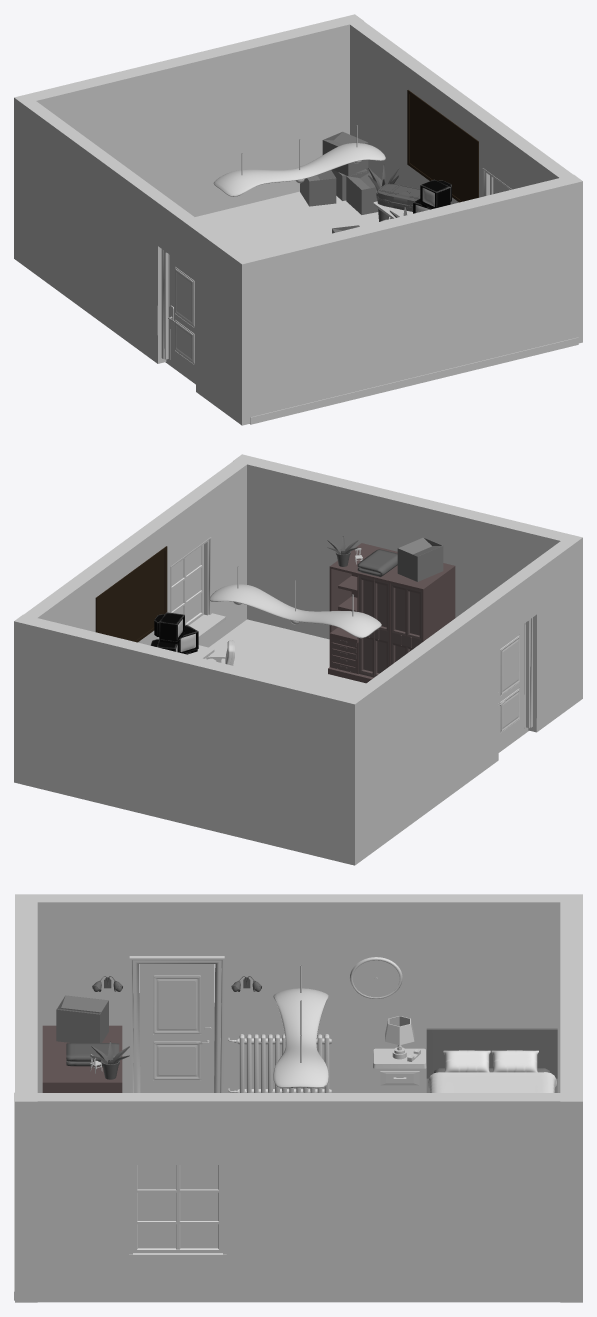
Rendered from Room 15 Added too.fbx.
3 views of the same model, one above another, from view 1: azimuth 30°, elevation 25°; view 2: azimuth 150°, elevation 25°; view 3: azimuth 270°, elevation 25° (orthographic). The views are drawn at different scales.
Visible parts, largest first — view 1: Box010, Box011, Box012, Box006, Box001, Plane.001, Plane, Plane001, Door001, pCube004, pCube013, Door Frame001 (+3 smaller); view 2: Box012, Box011, Box010, Box006, Box001, Wardrobe002, Plane.001, Plane, Door001, pCube008, Glass, WDDoorsR005 (+8 smaller); view 3: Box006, Box011, Door001, Box010, Box012, Glass, Plane, Bed_Frame, Door Frame001, Wardrobe002, Cylinder001, outputCloth10 (+10 smaller).
Boxes of the visible parts, x1,y1,x2,y2 form: Box010: (233, 175, 582, 415); Box011: (14, 95, 254, 425); Box012: (19, 14, 363, 216); Box006: (341, 14, 582, 343); Box001: (165, 191, 578, 424); Plane.001: (407, 90, 478, 202); Plane: (213, 125, 385, 196); Plane001: (214, 208, 334, 254); Door001: (170, 255, 195, 378); pCube004: (346, 171, 382, 214); pCube013: (300, 166, 336, 206); Door Frame001: (161, 249, 170, 359); Box012: (14, 614, 362, 862); Box011: (342, 535, 582, 865); Box010: (233, 454, 577, 639); Box006: (14, 454, 255, 785); Box001: (205, 619, 528, 752); Wardrobe002: (328, 543, 455, 683); Plane.001: (95, 546, 167, 642); Plane: (209, 566, 381, 638); Door001: (498, 623, 524, 746); pCube008: (397, 537, 443, 581); Glass: (171, 547, 200, 622); WDDoorsR005: (374, 579, 388, 677); Box006: (15, 1093, 582, 1302); Box011: (15, 894, 582, 1092); Door001: (139, 964, 214, 1092); Box010: (15, 894, 37, 1302); Box012: (560, 895, 582, 1302); Glass: (138, 1165, 218, 1248); Plane: (273, 965, 328, 1088); Bed_Frame: (426, 1028, 557, 1092); Door Frame001: (129, 956, 224, 1092); Wardrobe002: (42, 1025, 122, 1092); Cylinder001: (228, 1034, 331, 1092); outputCloth10: (428, 1072, 556, 1092).
Size of the model in its own units: 38.41 by 17.45 by 44.57.
